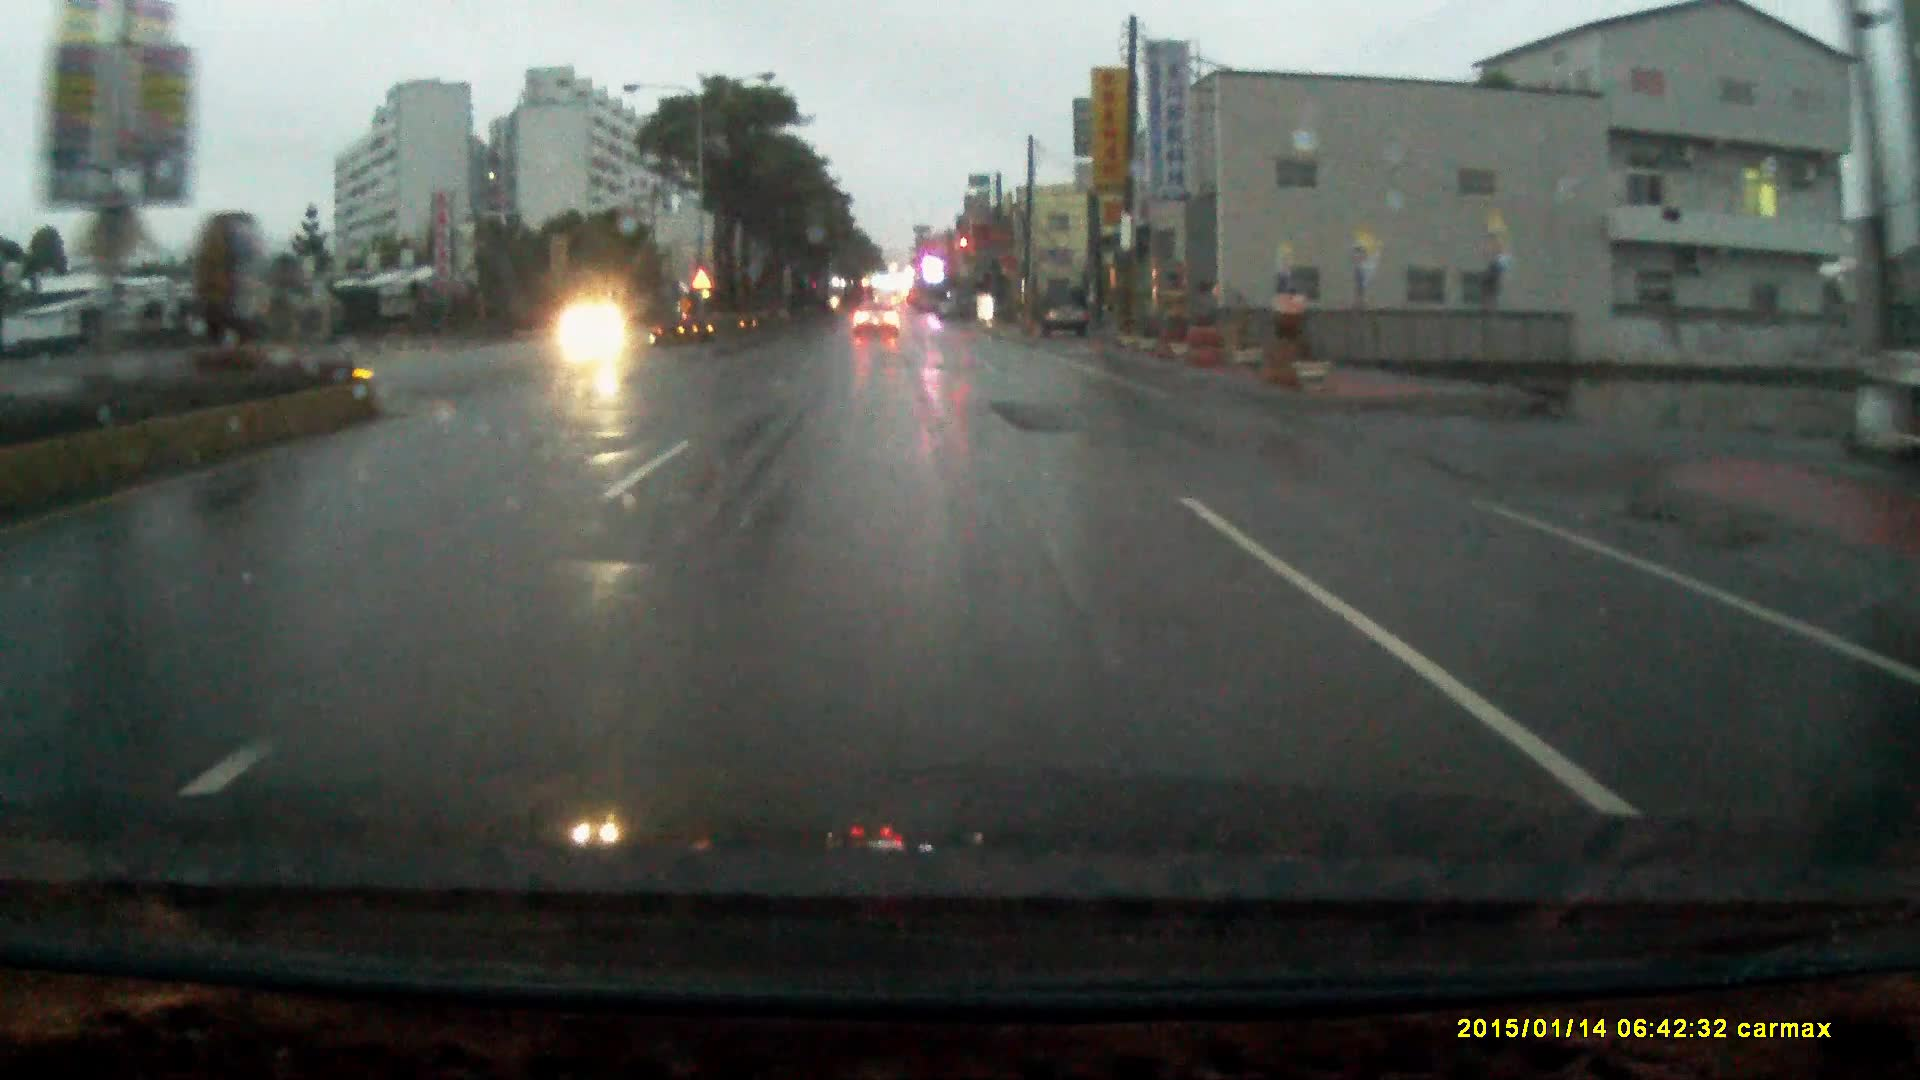vehicle: (1043, 287, 1093, 340), (849, 301, 899, 338)
